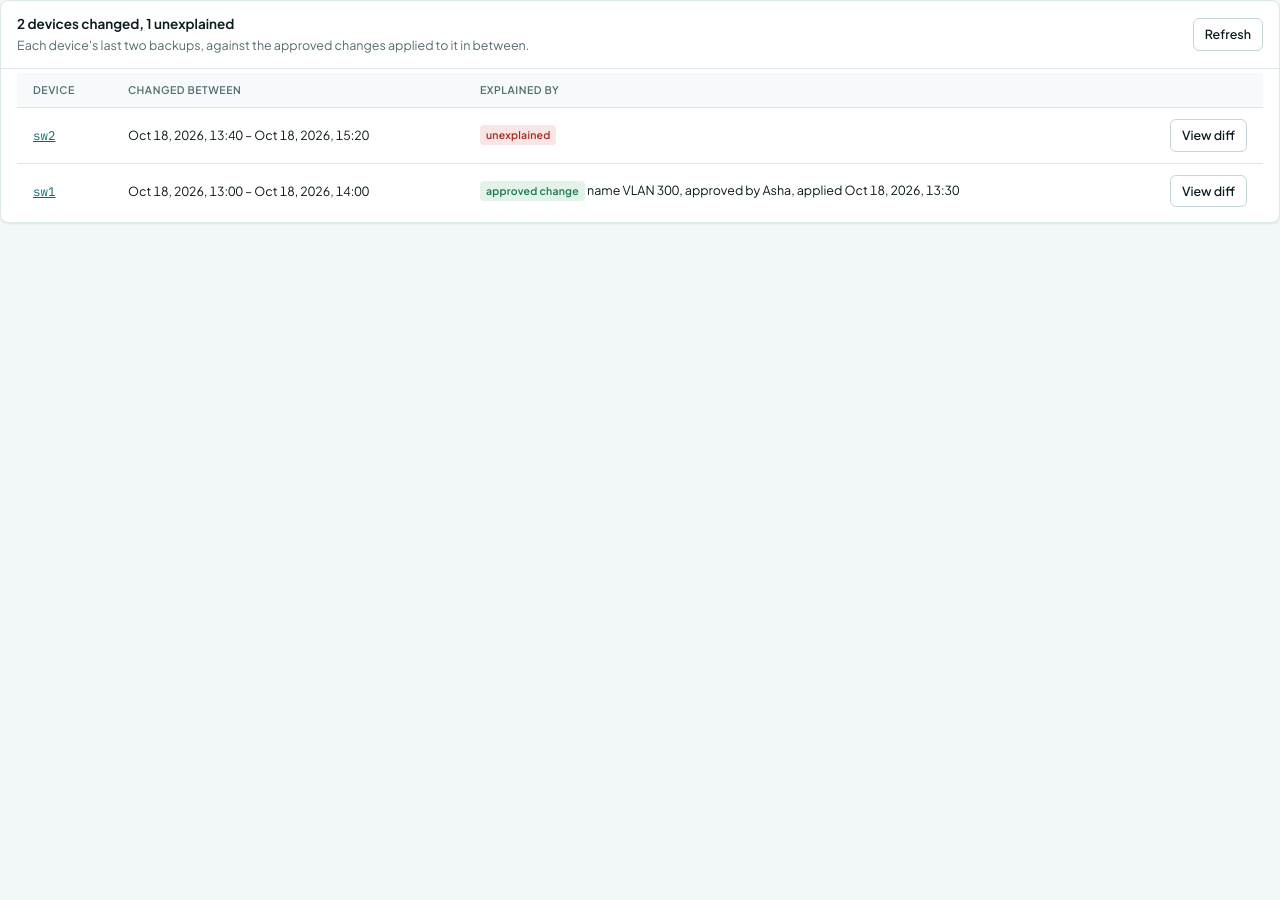
Test: DriftScreen › counts, marks unexplained and opens the diff of the two backups
Expected: the heading "2 devices changed, 1 unexplained" is shown, 17,15 -> 234,32
Expected: the text "unexplained" is shown, 480,125 -> 556,145
Click the button "View diff" in the row of "sw2" at [1208, 135], box 1170,119 -> 1247,152
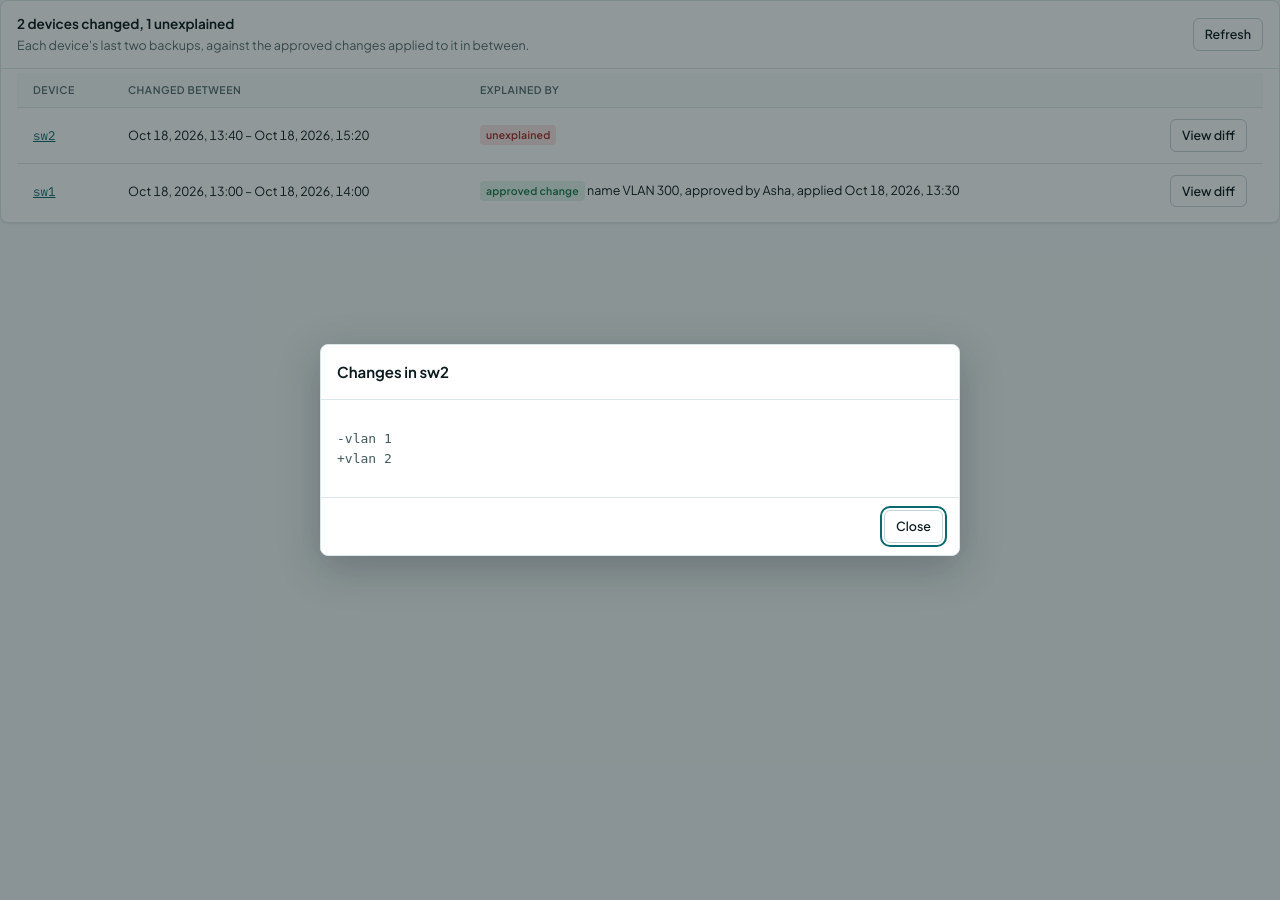
Result: the text with test id "drift-diff" shows "+vlan 2" at 337,431 -> 392,466
